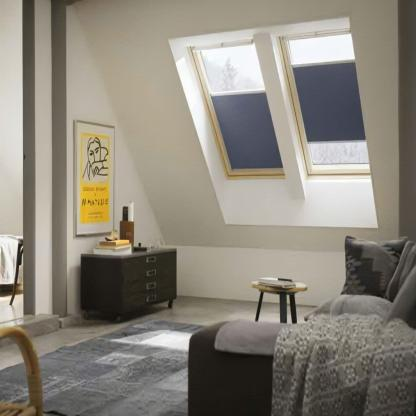Sideboard: (78, 247, 178, 322)
Window: (282, 30, 371, 178), (189, 41, 284, 179)
